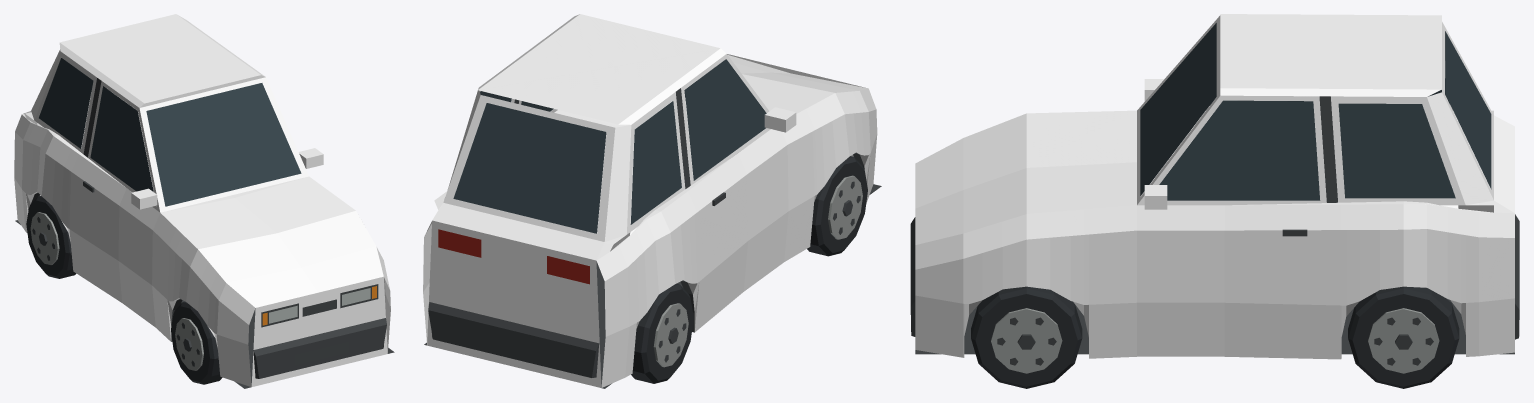
Rendered from hozuki_samidare_gts.glb.
The picture shows the model from 3 angles, left to right: view 1: azimuth 30°, elevation 25°; view 2: azimuth 150°, elevation 25°; view 3: azimuth 270°, elevation 25°; orthographic projection. The views are drawn at different scales.
Visible parts, largest first — view 1: hozuki_samidare_gts; view 2: hozuki_samidare_gts; view 3: hozuki_samidare_gts.
Boxes of the visible parts, bbox=[...] form: hozuki_samidare_gts: bbox=[14, 14, 394, 388]; hozuki_samidare_gts: bbox=[423, 14, 881, 388]; hozuki_samidare_gts: bbox=[910, 14, 1519, 388].
Bounding box in the file's own units: 1.47 × 1.66 × 3.23.
Materials: 8 (1 with a texture image).
